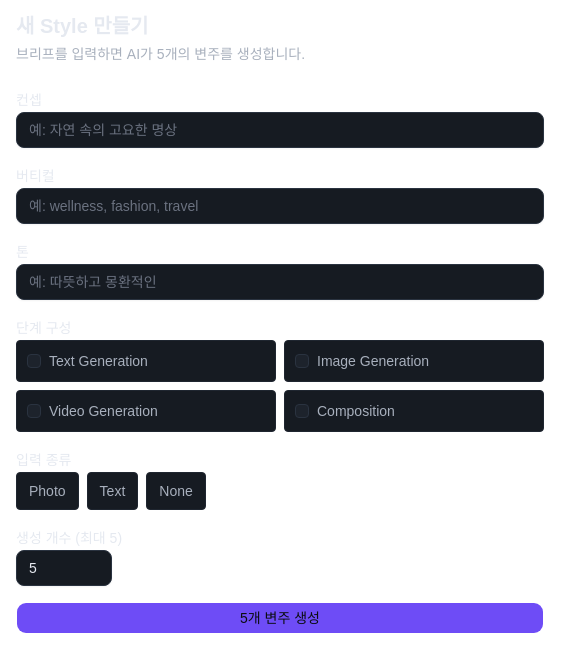
BriefForm — n field NaN / zero guard › clamps to 1 when 0 is entered (prevents zero submit)
Replace the text in the number field named "n" with "0" at [64, 568], box [16, 550, 112, 586]
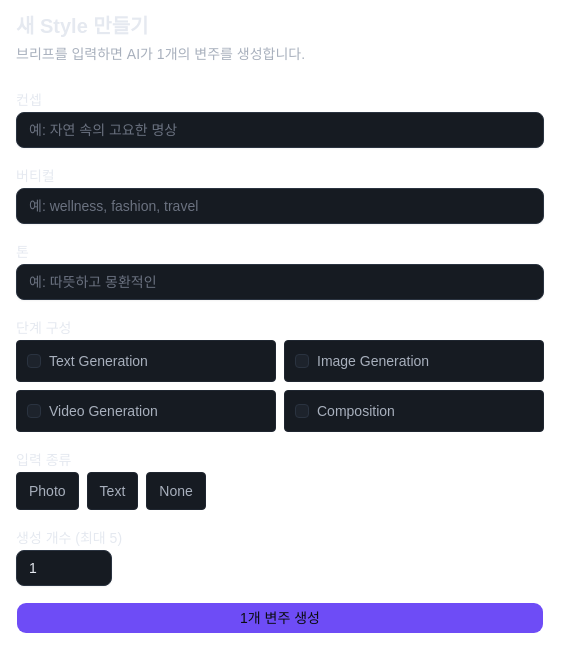
Check: the button "1개 변주 생성" is shown, box [16, 602, 544, 634]
